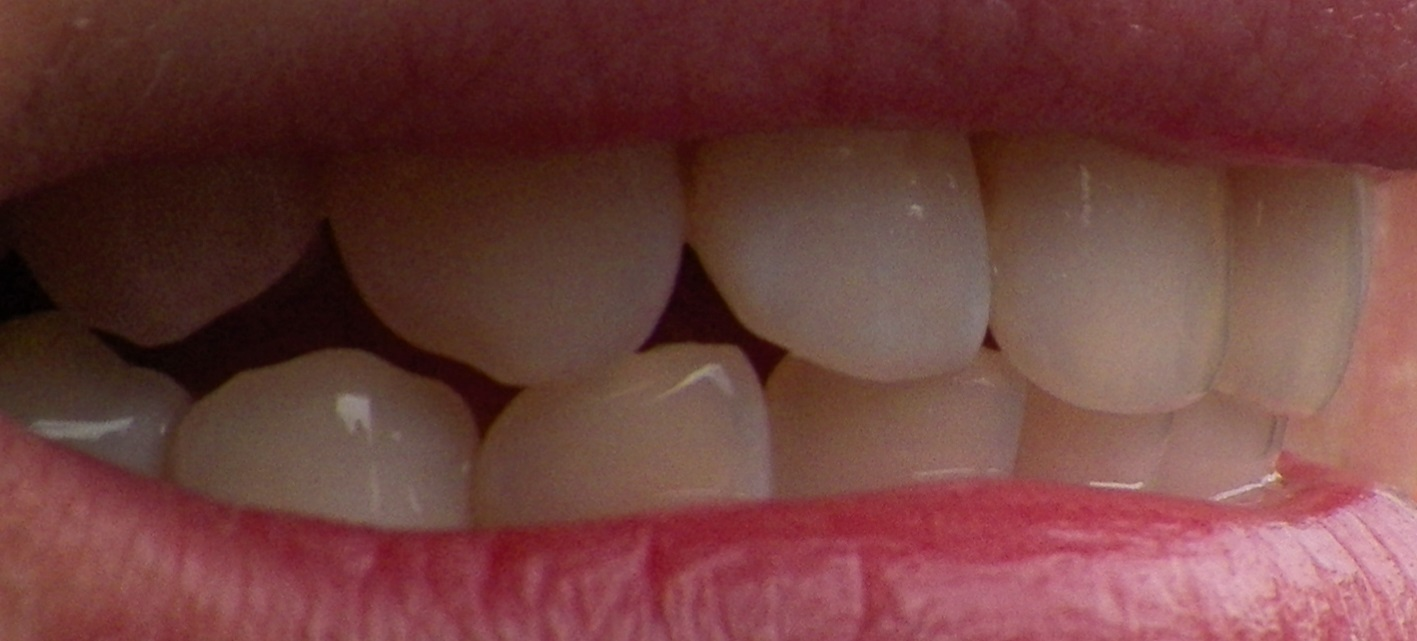boca: (8, 120, 1366, 522)
